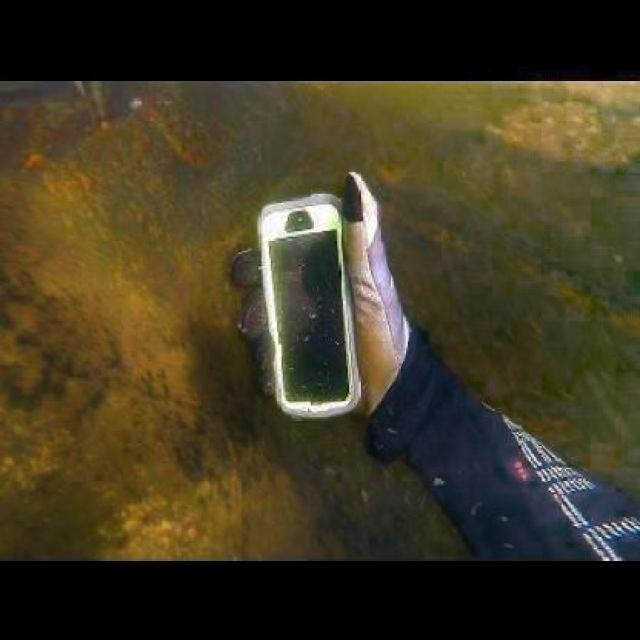cellphone: (258, 196, 362, 418)
